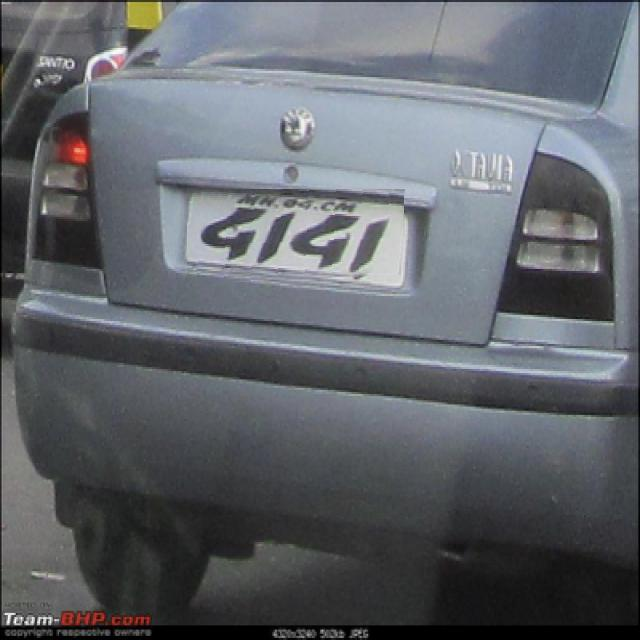licence: (187, 190, 405, 284)
